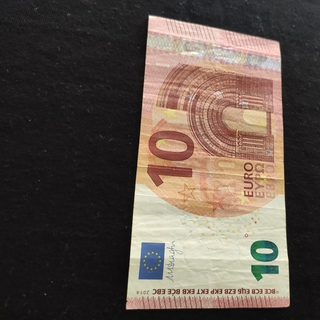10EUROFront: (124, 14, 290, 308)
